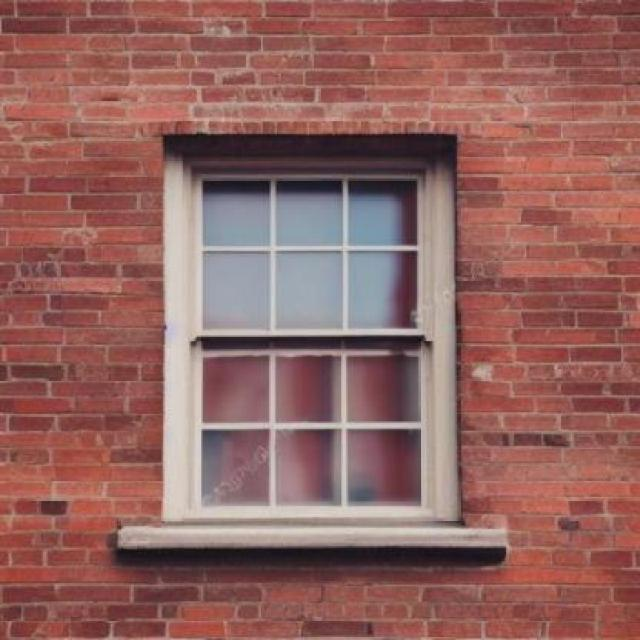window: (162, 132, 460, 520)
